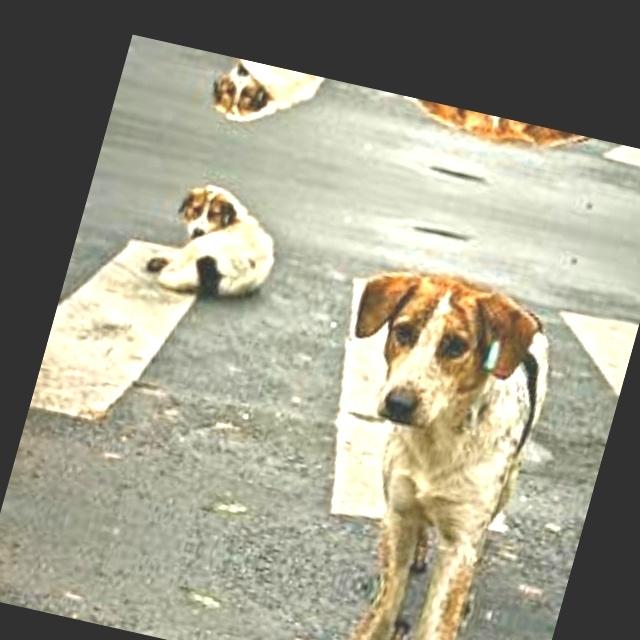dog: (295, 222, 602, 593), (132, 158, 322, 344), (402, 99, 636, 208), (185, 51, 352, 160), (262, 595, 500, 640)
